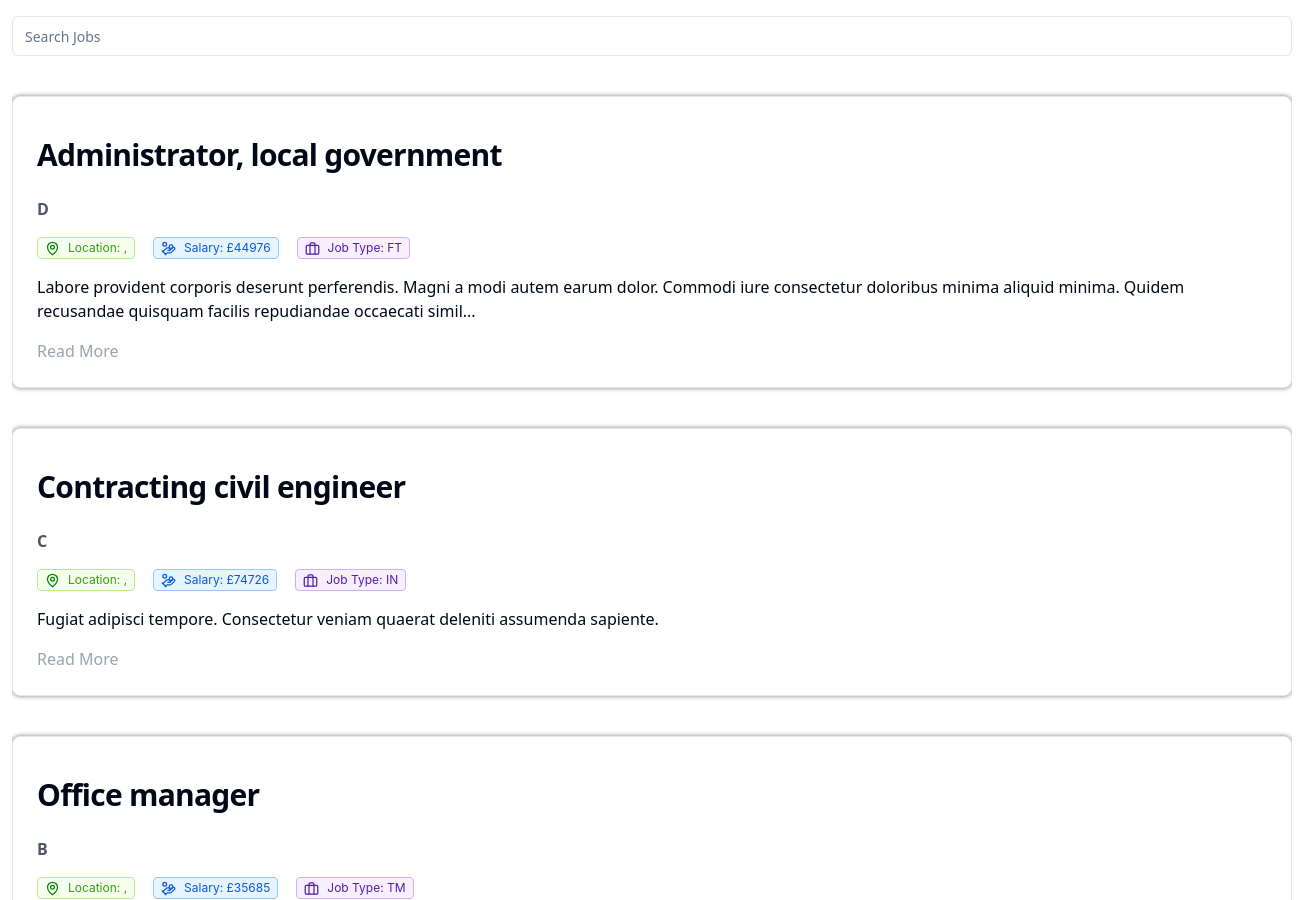
JobList component › searched jobs appear correctly based on company
In the field with placeholder "Search Jobs": (652,36) [12, 16, 1292, 56], type "lasdhflashjfdalsfdsjflkj"
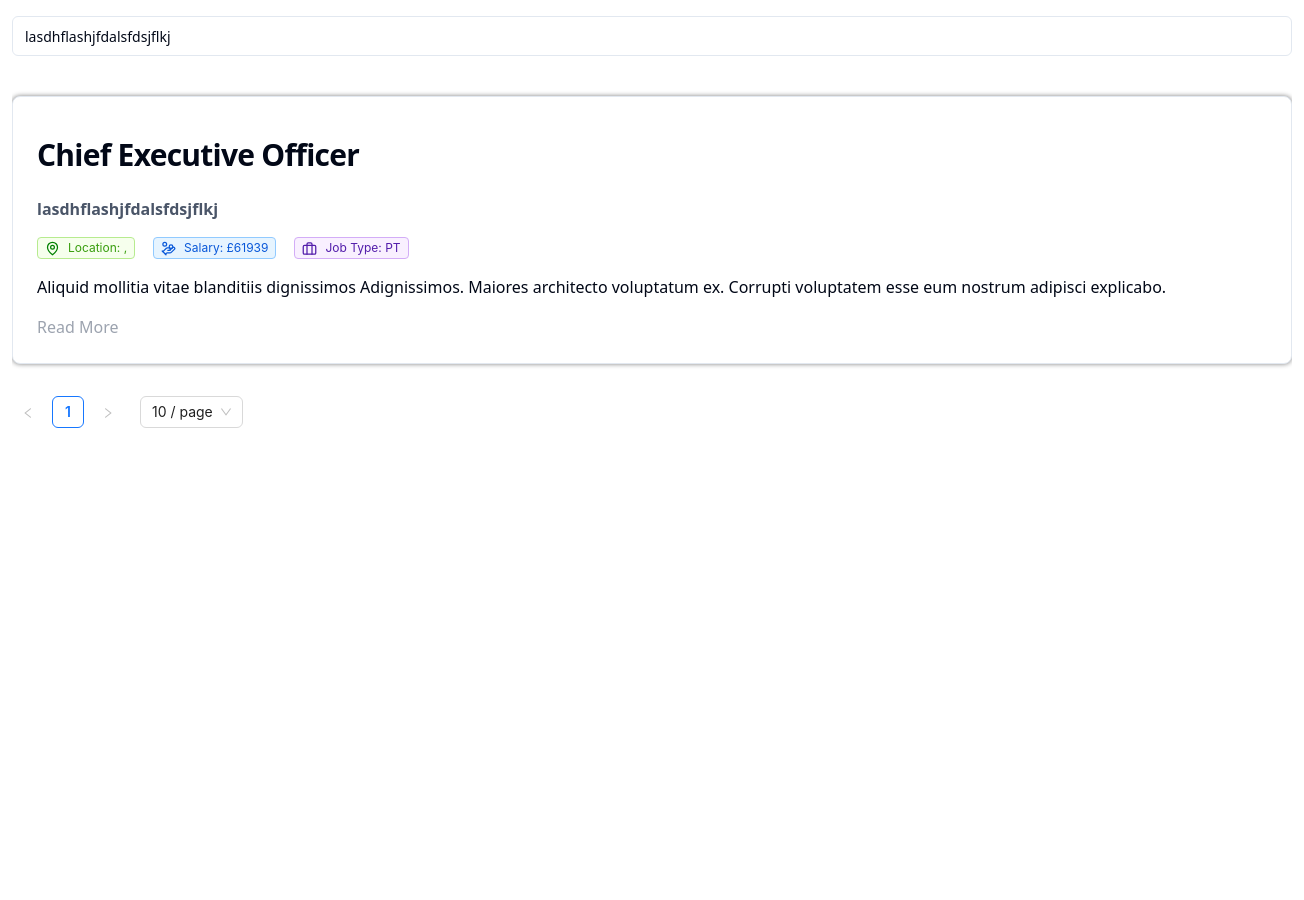
Check: the text "Aliquid mollitia vitae blanditiis dignissimos Adignissimos. Maiores architecto voluptatum ex. Corrupti voluptatem esse e" is shown, box [37, 276, 1166, 298]
Check: the number of lists is 2, box [12, 96, 1292, 364]; [12, 396, 243, 428]
